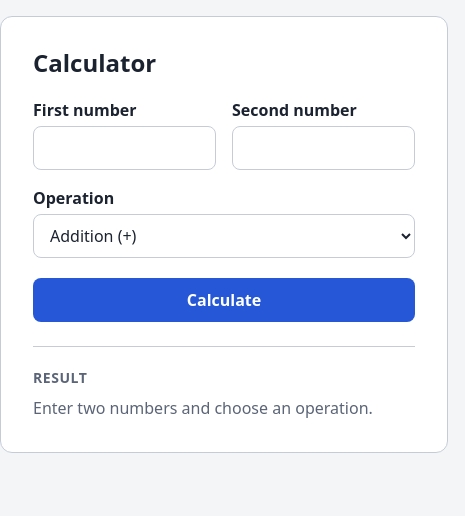
Test: Calculator › validation › rejects non-numeric input
The image size is (465, 516).
Type "abc" into the field labelled "First number" at {"x": 124, "y": 148}, box [33,126,216,170]
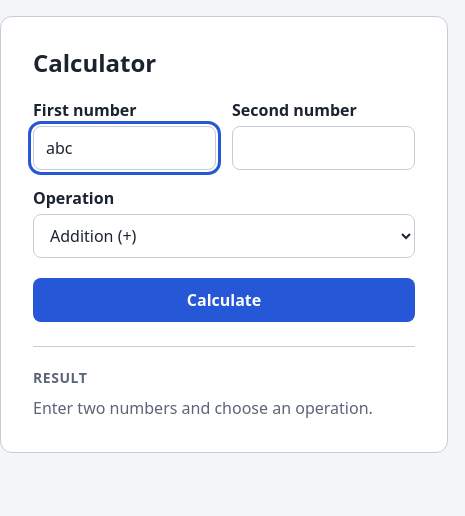
Type "1e5" into the field labelled "Second number" at {"x": 324, "y": 148}, box [232,126,415,170]
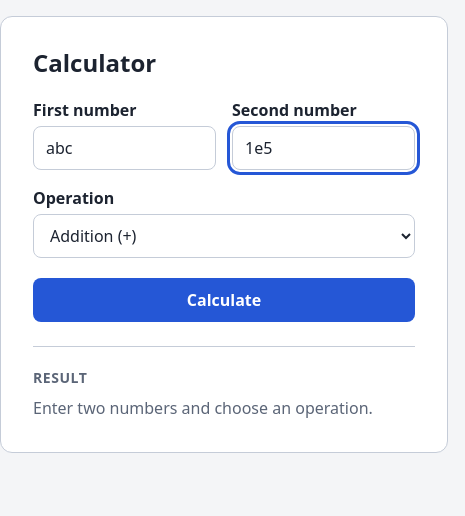
Click the button "Calculate" at {"x": 224, "y": 300}, box [33,278,415,322]
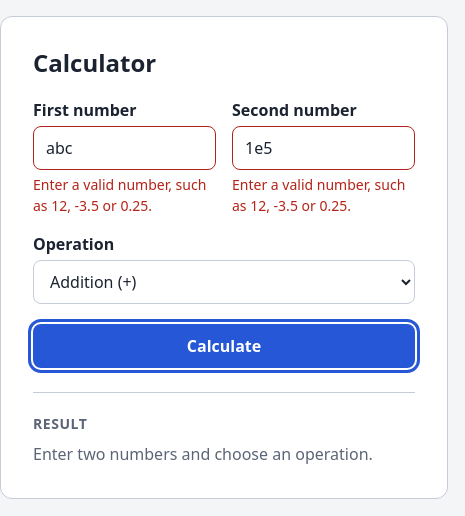
Now the text "Enter a valid number, such as 12, -3.5 or 0.25." is shown 2 times, box [33,174,216,216]; [232,174,415,216]
